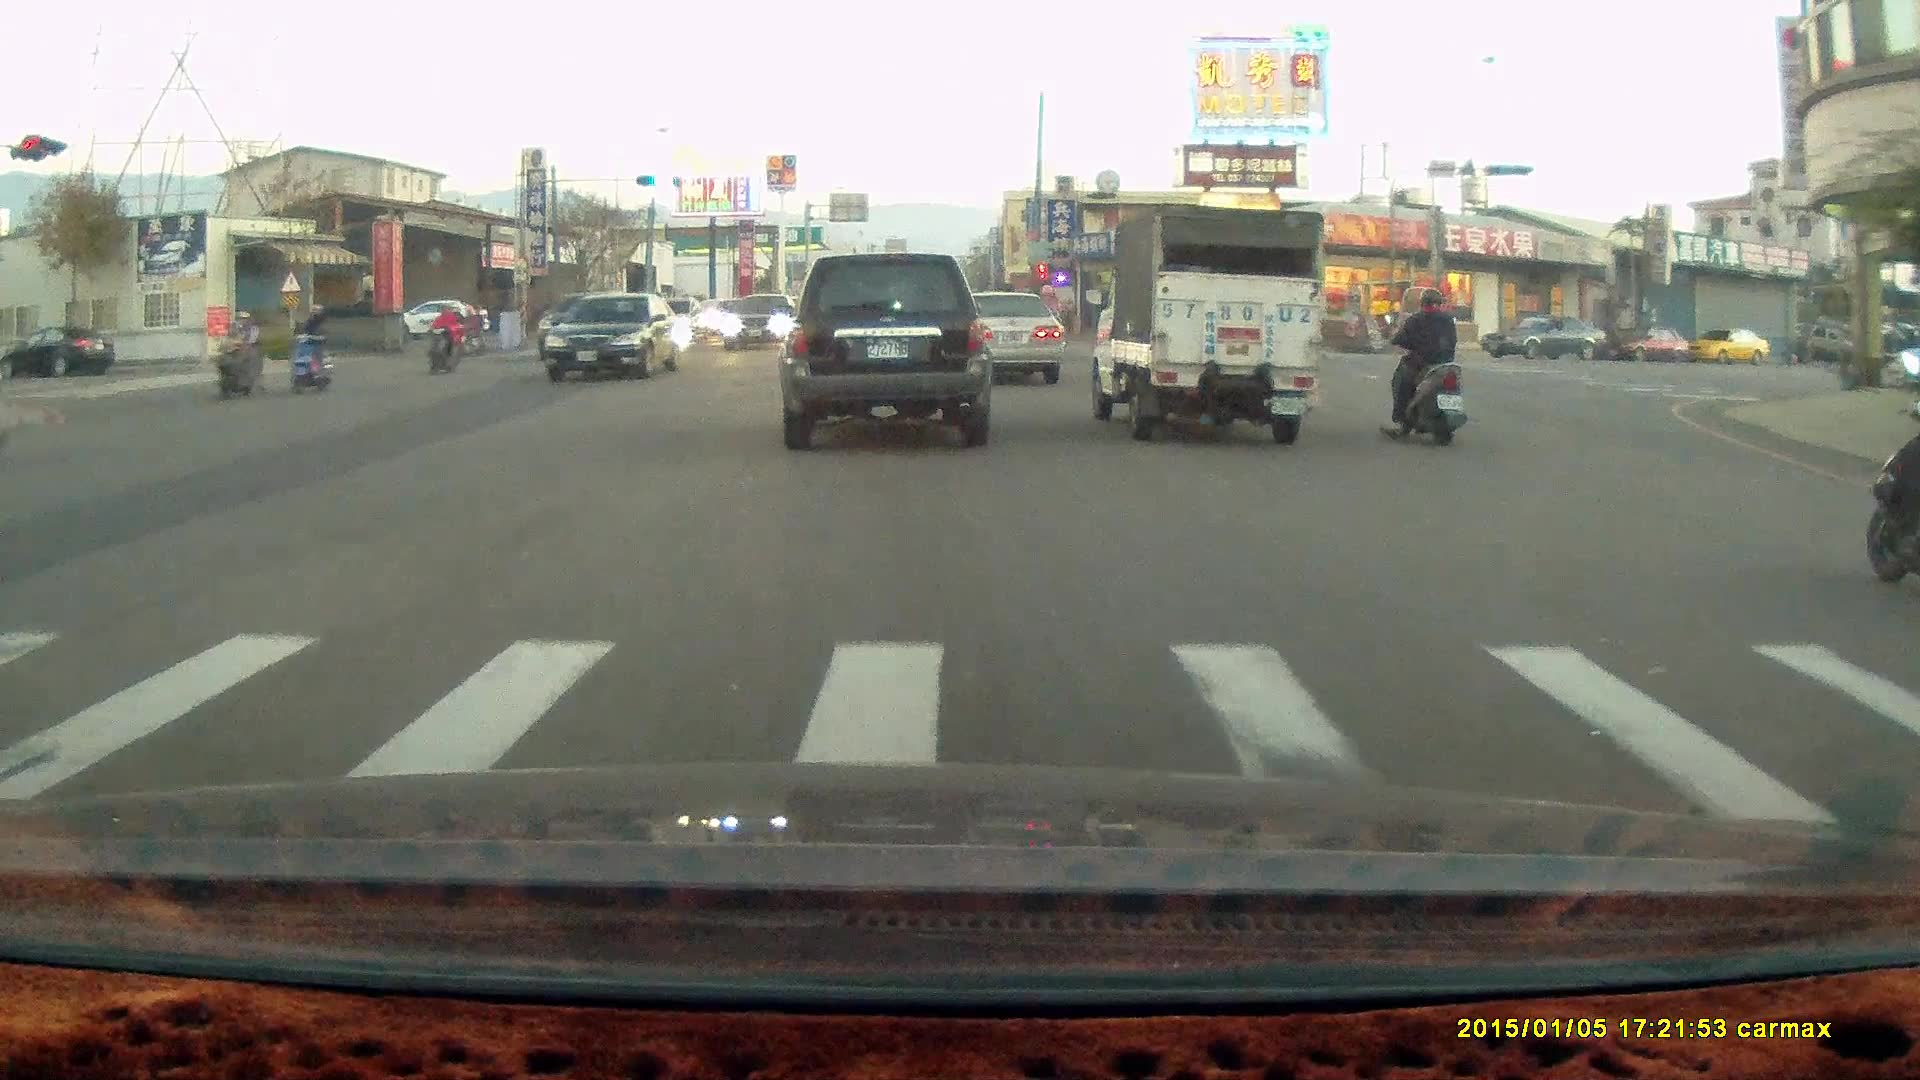rider: (1381, 286, 1465, 445), (1861, 371, 1920, 589), (207, 308, 266, 404), (284, 302, 333, 395), (426, 300, 463, 375)
vehicle: (1081, 206, 1325, 447), (776, 250, 993, 451), (544, 294, 690, 385), (945, 289, 1066, 387), (953, 289, 1068, 387), (1479, 310, 1611, 362), (721, 294, 801, 353), (404, 300, 488, 345), (1687, 326, 1773, 365), (1613, 326, 1693, 362)
